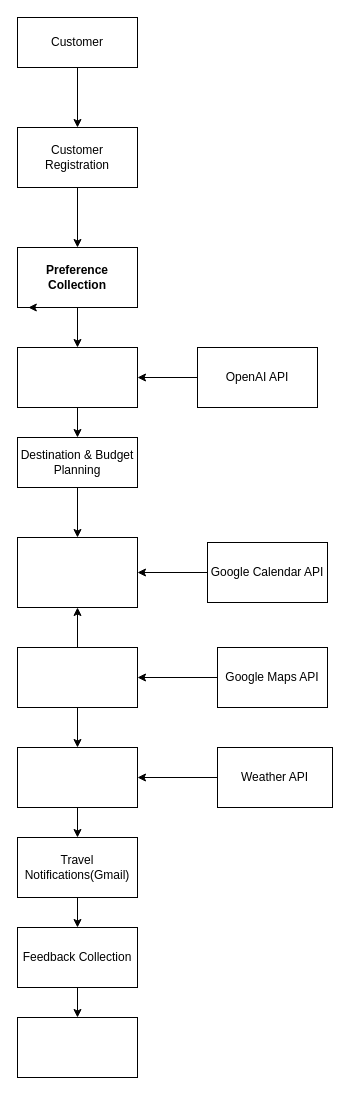
Some shapes in this 350 by 1095 pixel diagram are drawn without their labels. Each missing label, with the centre of its shape:
"Booking Management" goes at pixel 77 572.
"Itinerary Generation" goes at pixel 77 677.
"OpenAI Recommendation" goes at pixel 77 377.
"Travel Analytics" goes at pixel 77 1047.
"Weather Monitoring" goes at pixel 77 777.
